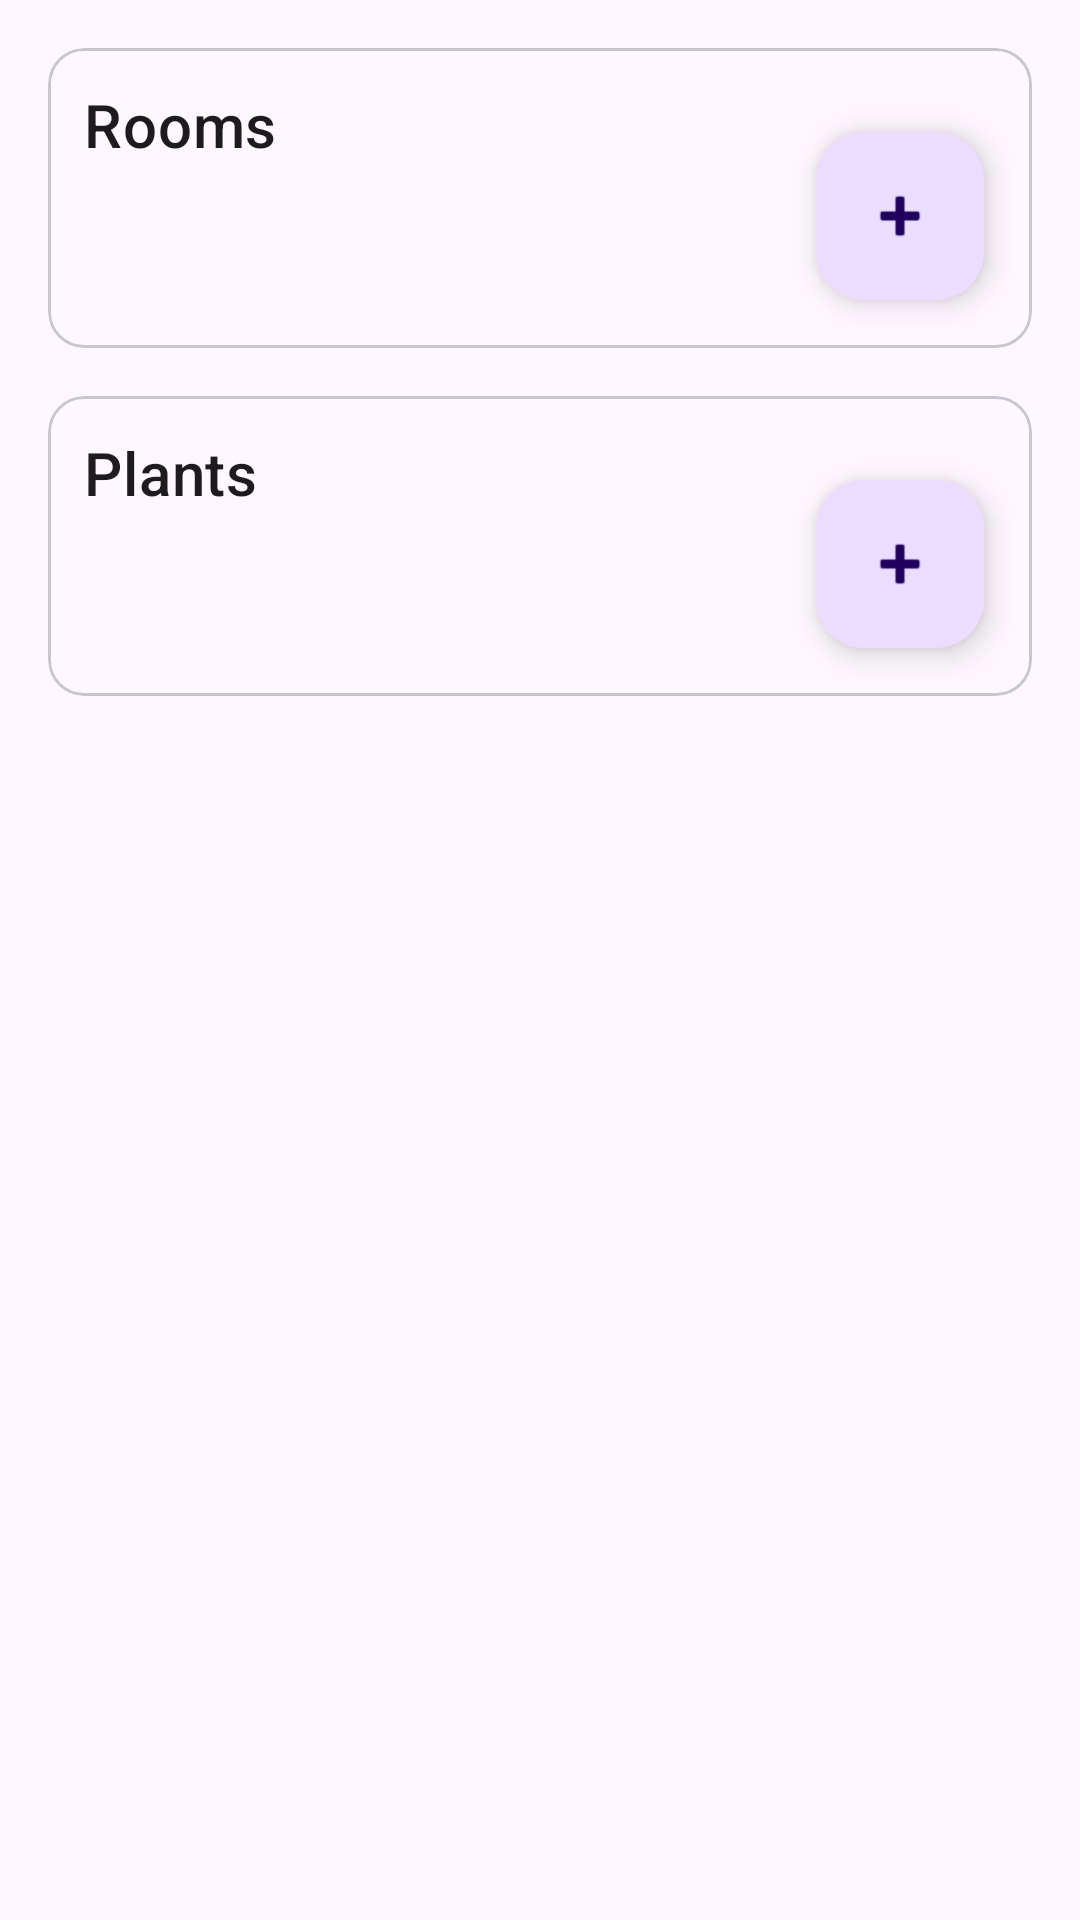

Locate icon controls on the screen. Image size 1080px×1920px, boxes as (x1, y1, x2, y2).
Add plant: (816, 480, 984, 648)
Add Room: (816, 132, 984, 300)
